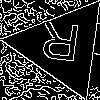R: (37, 21, 82, 71)
